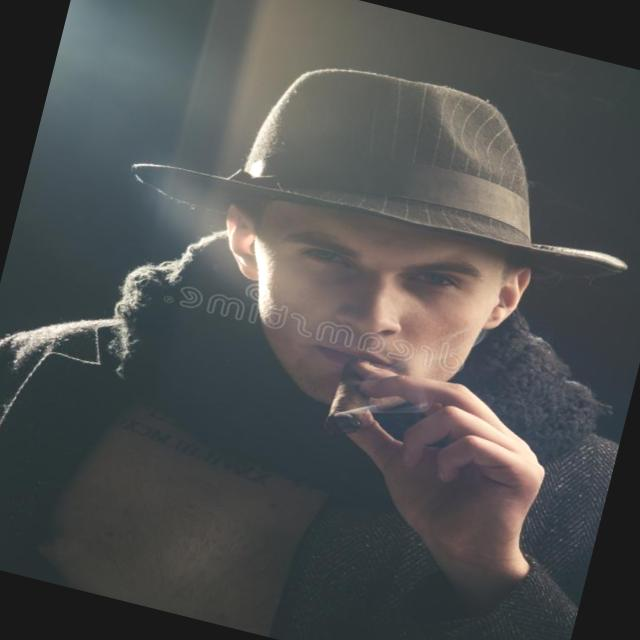smoke: (296, 352, 388, 458)
